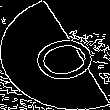O_NE: (12, 25, 98, 85)
